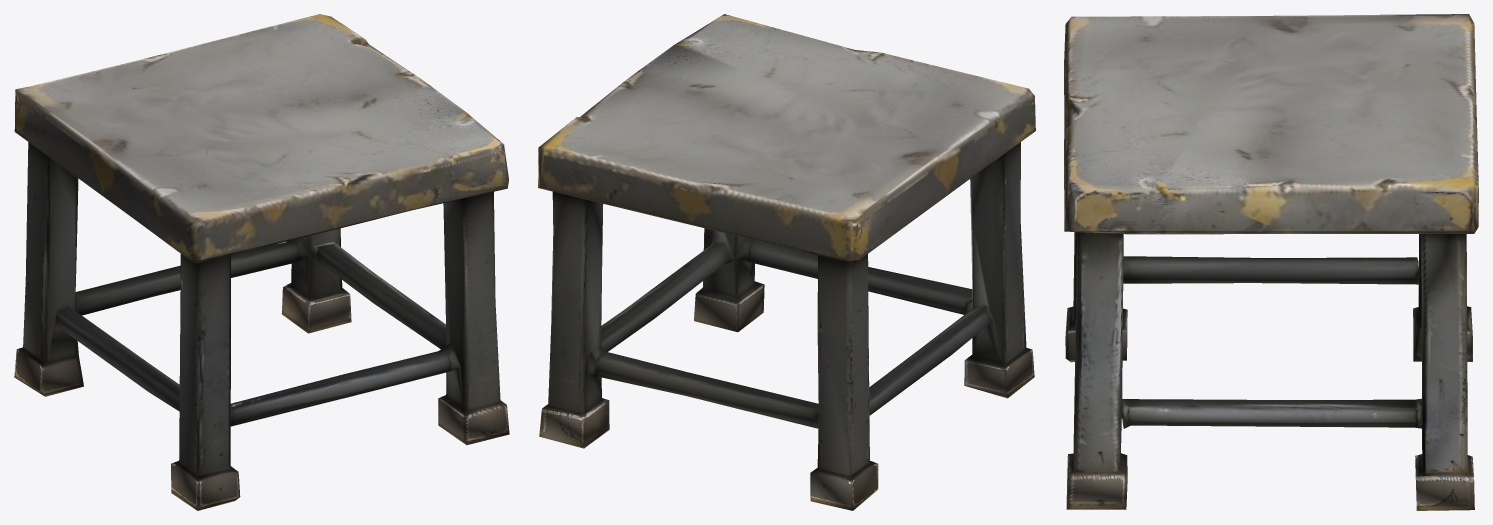
File: tripo_convert_30be7d44-6292-4ccd-b228-620aa8f40f59.fbx
3 views of the same model, side by side, from view 1: azimuth 30°, elevation 25°; view 2: azimuth 150°, elevation 25°; view 3: azimuth 270°, elevation 25° (orthographic). The views are drawn at different scales.
Parts seen in each view (by area): view 1: tripo_node_30be7d44; view 2: tripo_node_30be7d44; view 3: tripo_node_30be7d44.
Part boxes in pixels (left/top/right/bottom): tripo_node_30be7d44: left=14, top=14, right=509, bottom=510; tripo_node_30be7d44: left=538, top=14, right=1035, bottom=510; tripo_node_30be7d44: left=1064, top=14, right=1478, bottom=510.
Bounding box in the file's own units: 0.9952 × 0.8704 × 0.9999.
1 material, 1 textured.
